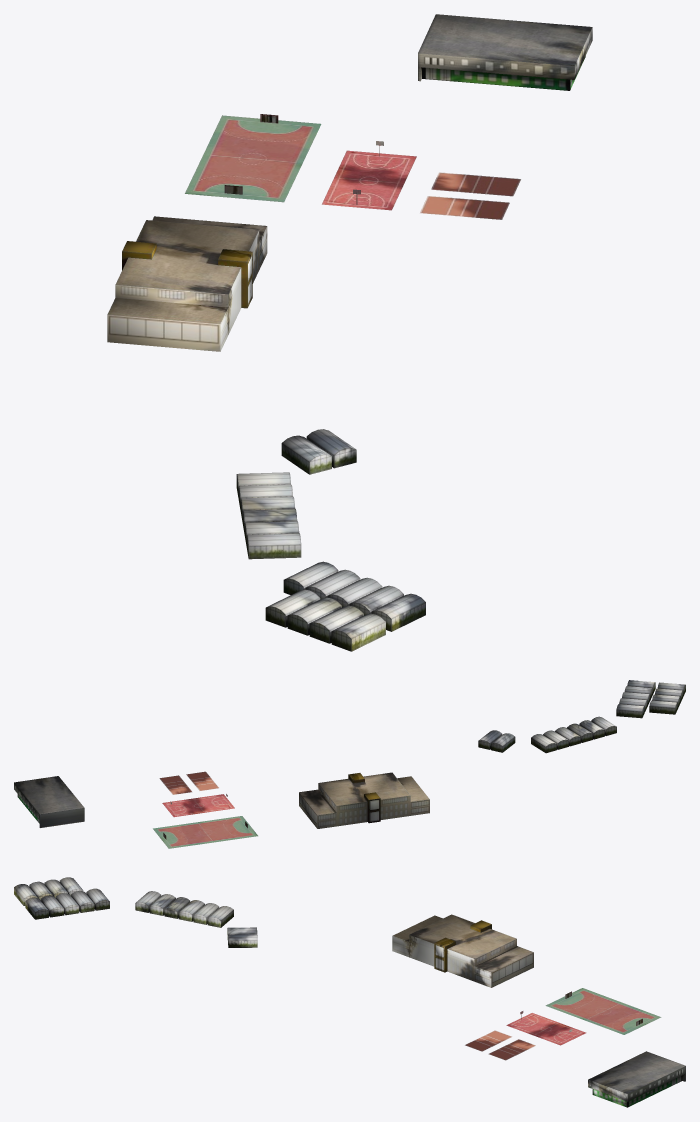
The model's file is angar.obj.
3 views of the same model, one above another, from view 1: azimuth 30°, elevation 25°; view 2: azimuth 150°, elevation 25°; view 3: azimuth 270°, elevation 25° (orthographic). The views are drawn at different scales.
Parts seen in each view (by area): view 1: Playground_001; view 2: Playground_001; view 3: Playground_001.
Boxes of the visible parts, box(x1,y1,x2,y2) form: Playground_001: box(107, 14, 592, 651); Playground_001: box(14, 680, 685, 848); Playground_001: box(14, 877, 685, 1107).
Size of the model in its own units: 10332 by 556 by 13101.
